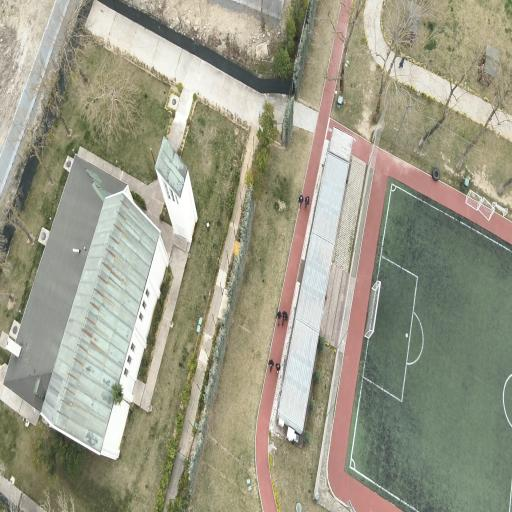person: (268, 359, 274, 372), (277, 311, 281, 326), (399, 58, 405, 68), (299, 195, 303, 209), (283, 311, 288, 322), (305, 196, 309, 208), (276, 362, 280, 372)
